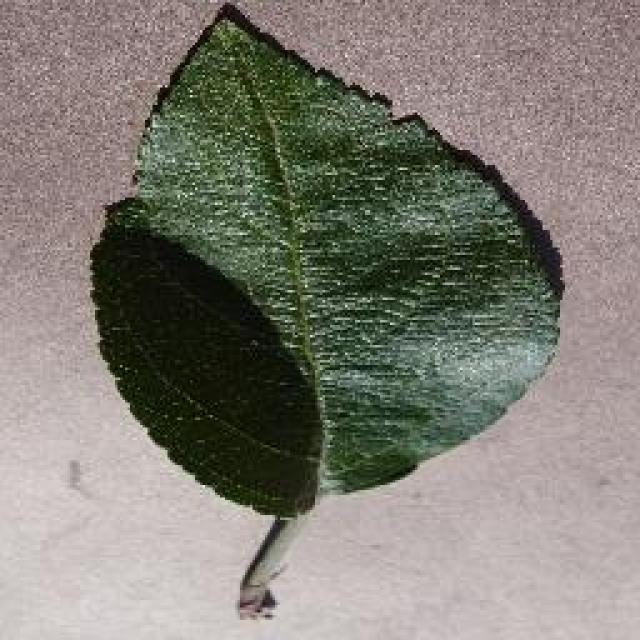apple healthy: (85, 0, 565, 618)
